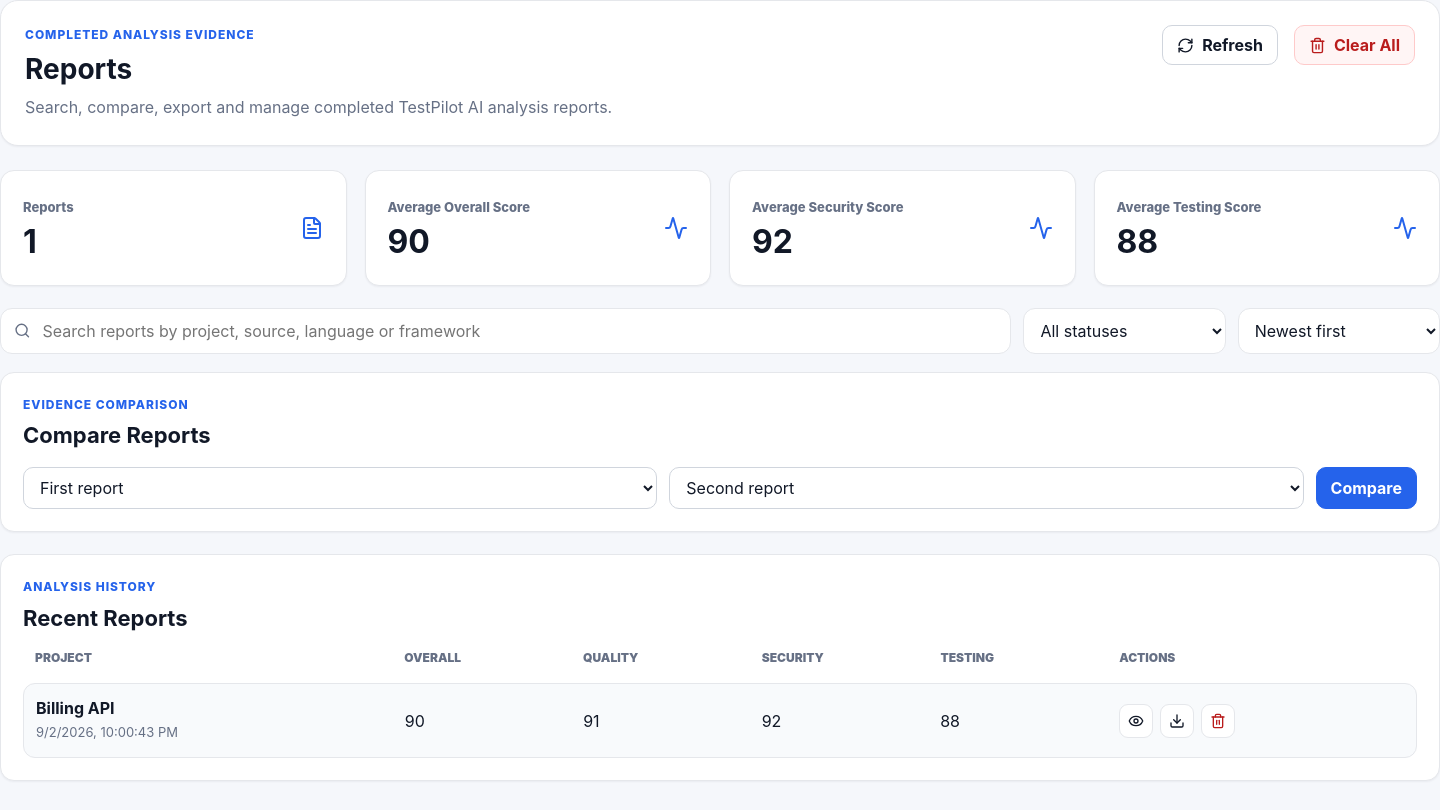
Test: Reports › clarifies that Clear All removes completed reports only
Step 1. Click the button "Clear All" → (1354, 45), box left=1294, top=25, right=1415, bottom=65
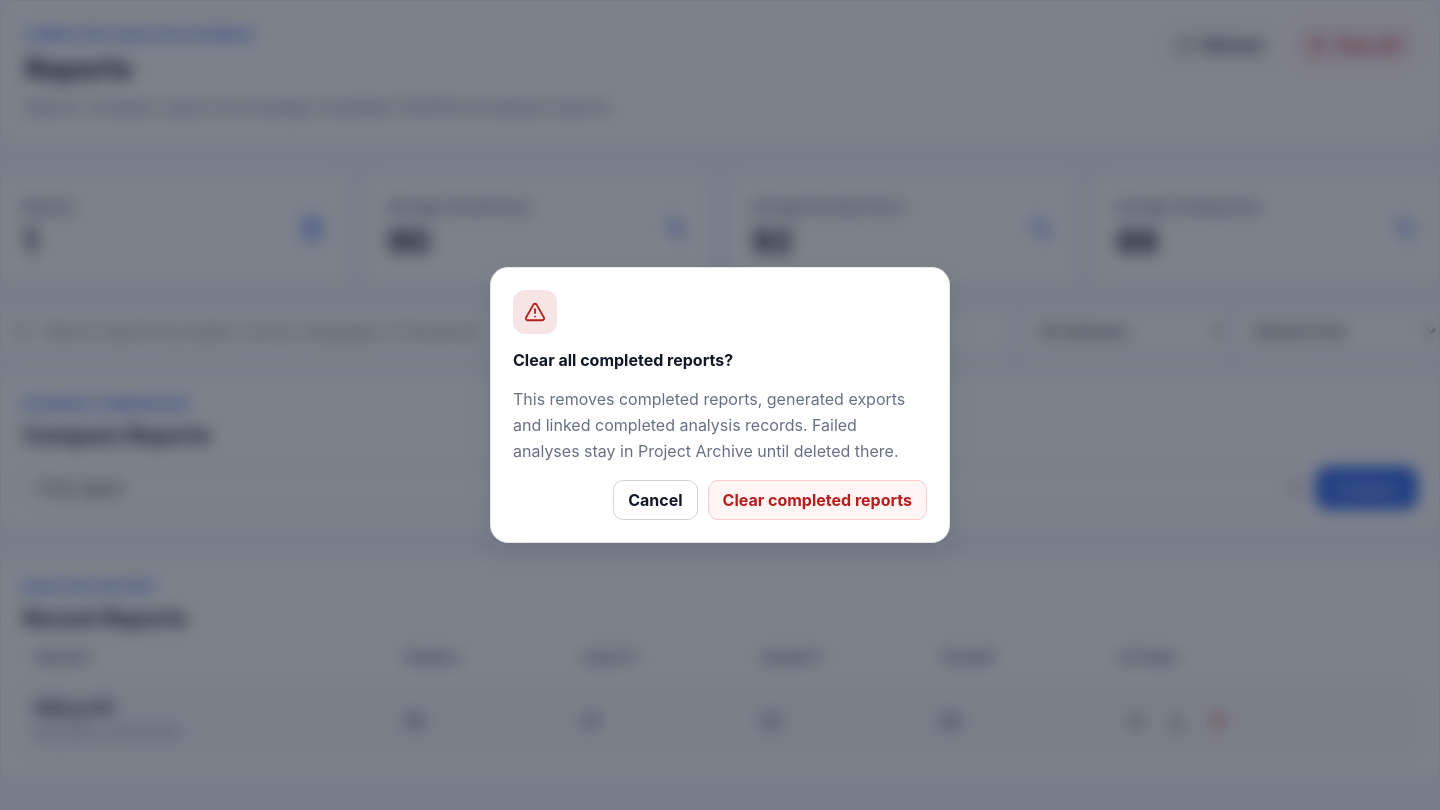
expect the heading "Clear all completed reports?" is shown: met, box left=513, top=350, right=733, bottom=370
expect the text "Failed analyses stay in Project Archive" is shown: met, box left=513, top=389, right=905, bottom=461
Step 2. Click the button "Clear completed reports" → (817, 500), box left=708, top=480, right=927, bottom=520
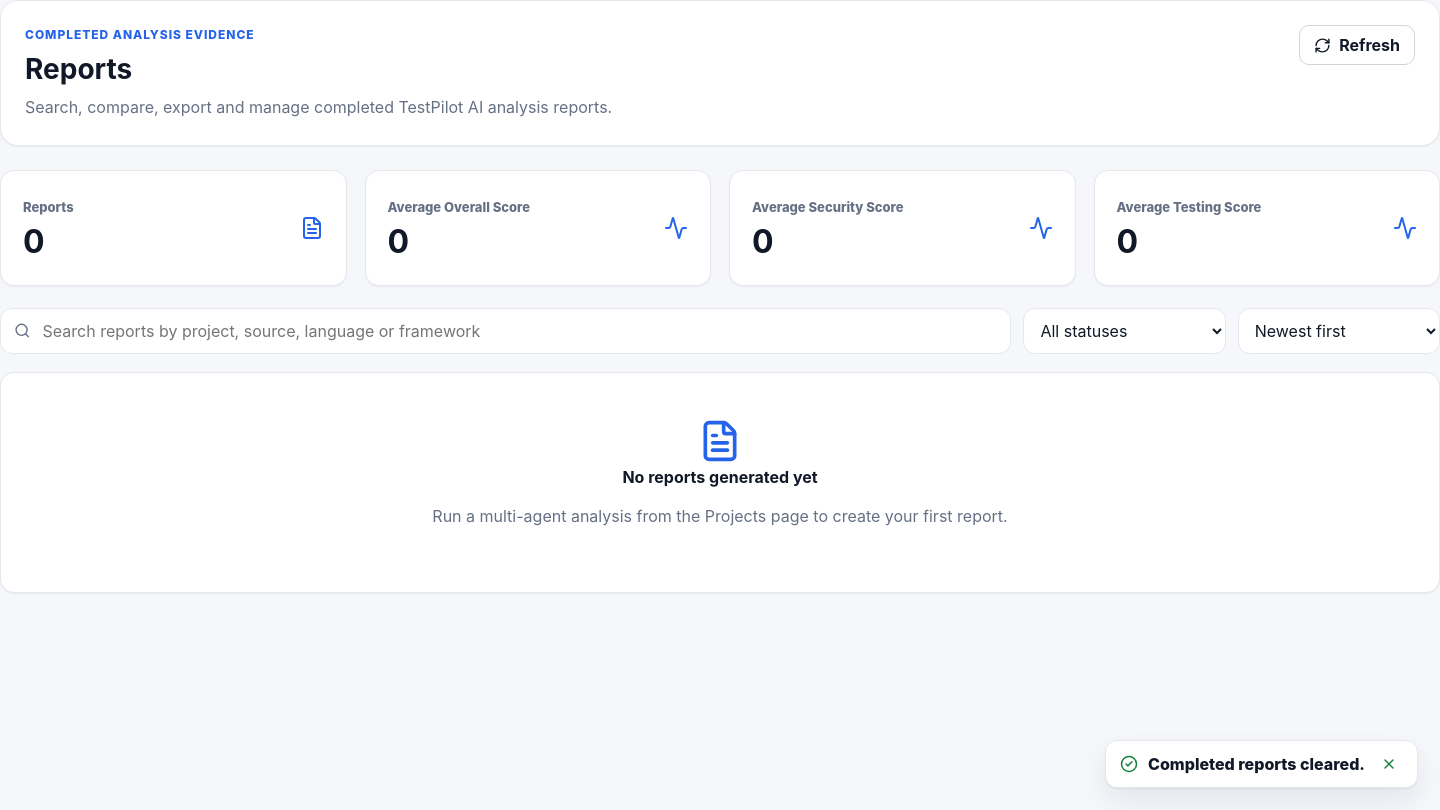
expect the text "Completed reports cleared." is shown: met, box left=1148, top=754, right=1365, bottom=774
